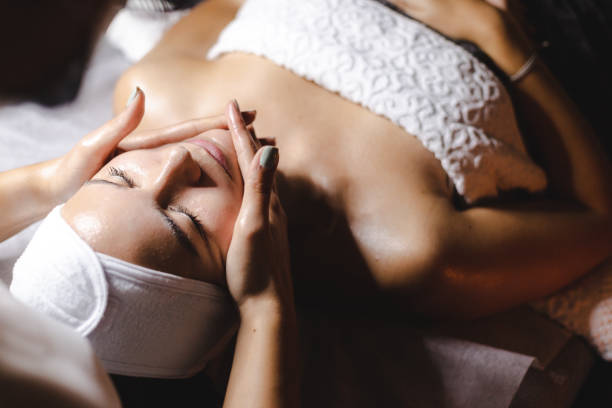without mask: (72, 112, 279, 281)
